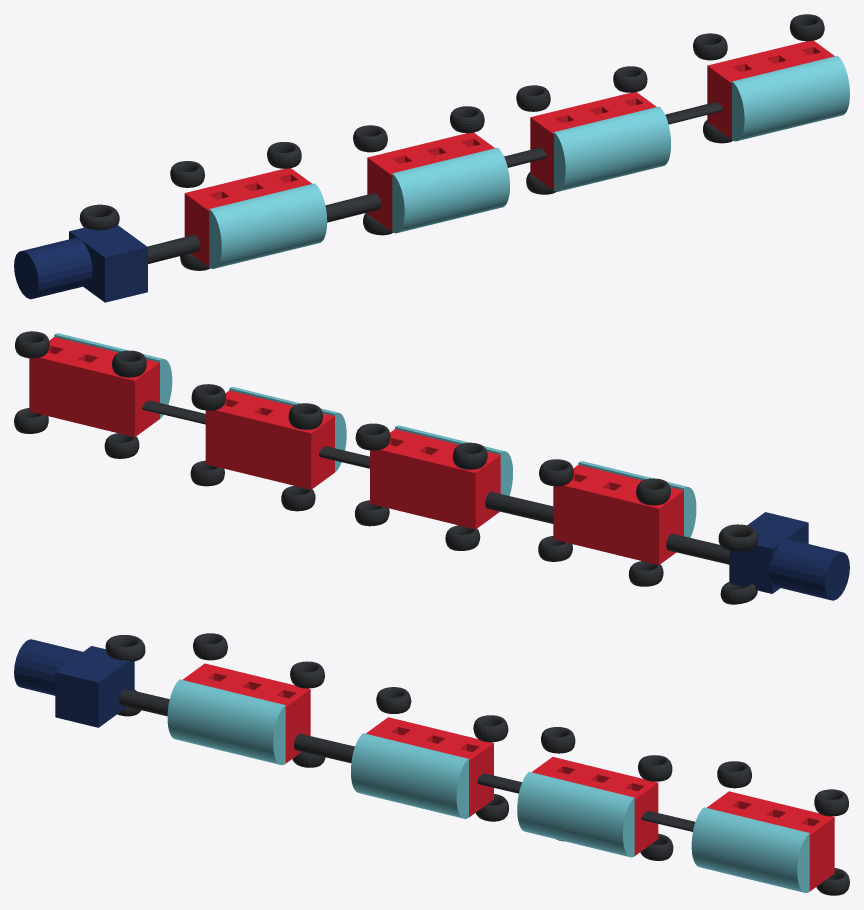
Rendered from tinker.obj.
3 renders of one model, top to bottom at view 1: azimuth 30°, elevation 25°; view 2: azimuth 150°, elevation 25°; view 3: azimuth 330°, elevation 25°, orthographic.
Parts seen in each view (by area): view 1: group_0_7720667, group_0_15277357, group_0_2829873, group_0_1650274; view 2: group_0_15277357, group_0_2829873, group_0_1650274, group_0_7720667; view 3: group_0_7720667, group_0_15277357, group_0_2829873, group_0_1650274.
Part boxes in pixels (<box>): group_0_7720667: <box>209,56,849,268</box>; group_0_15277357: <box>184,40,834,266</box>; group_0_2829873: <box>79,14,824,270</box>; group_0_1650274: <box>14,225,147,302</box>; group_0_15277357: <box>29,337,683,564</box>; group_0_2829873: <box>14,331,758,604</box>; group_0_1650274: <box>729,512,849,600</box>; group_0_7720667: <box>54,333,696,537</box>; group_0_7720667: <box>167,679,809,892</box>; group_0_15277357: <box>182,663,834,891</box>; group_0_2829873: <box>105,633,849,895</box>; group_0_1650274: <box>14,639,134,727</box>.
Bounding box in the file's own units: 376 × 49 × 40.
